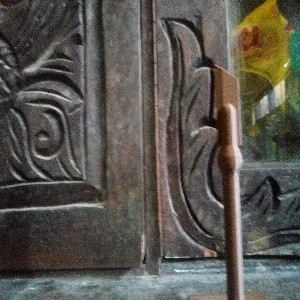cutter: (212, 61, 246, 300)
